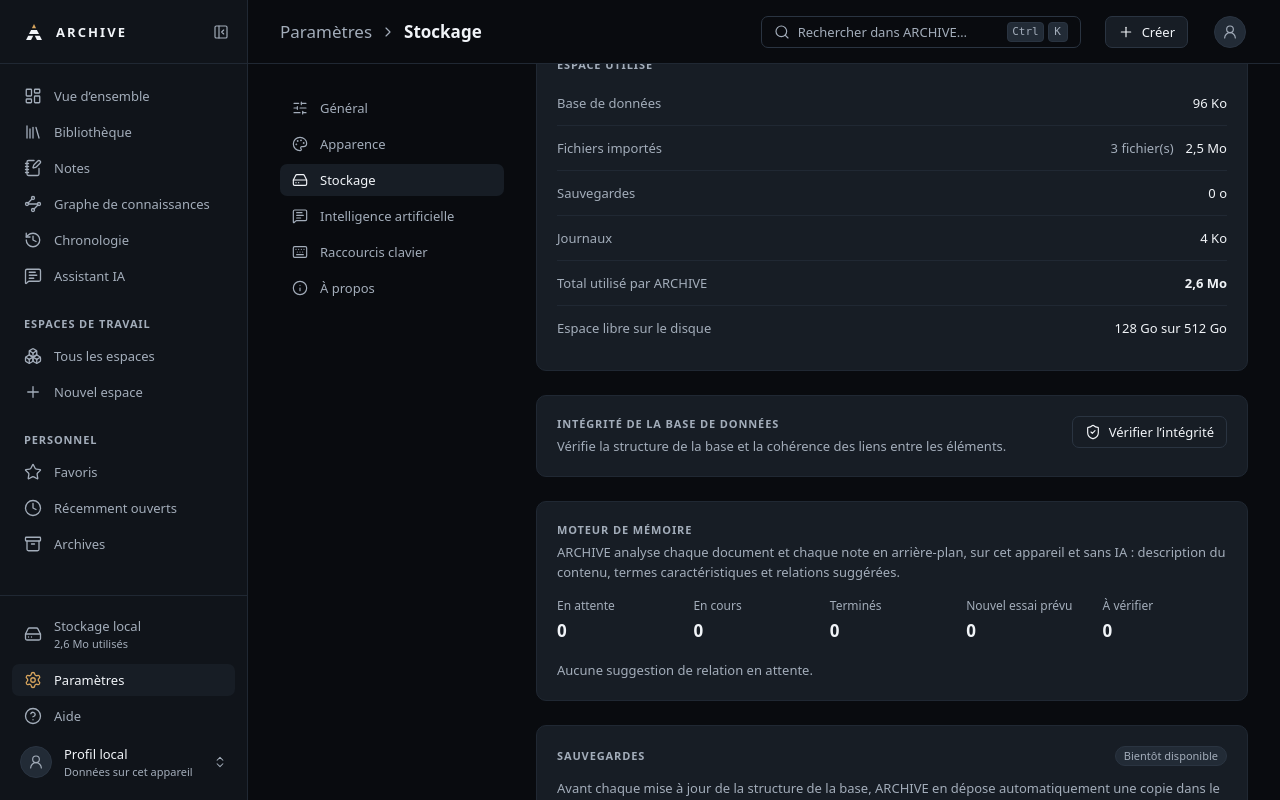
it: settings › reports integrity problems found by the native core
(page scrolled)
Click the button "Vérifier l’intégrité" at (1149, 432), box [1072, 416, 1227, 448]
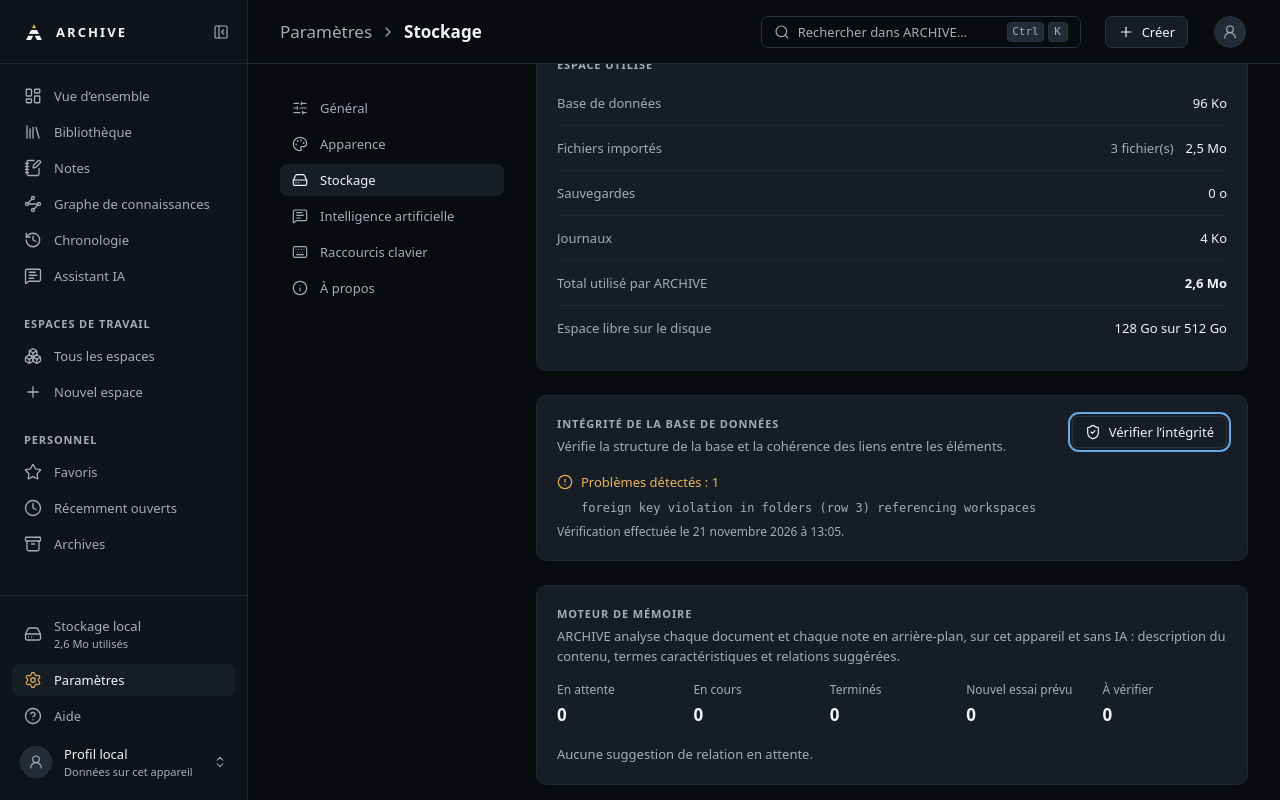
Check: the text "Problèmes détectés : 1" is shown, box [557, 473, 719, 491]
Check: the list item "foreign key violation in folders" is shown, box [581, 501, 1036, 515]
